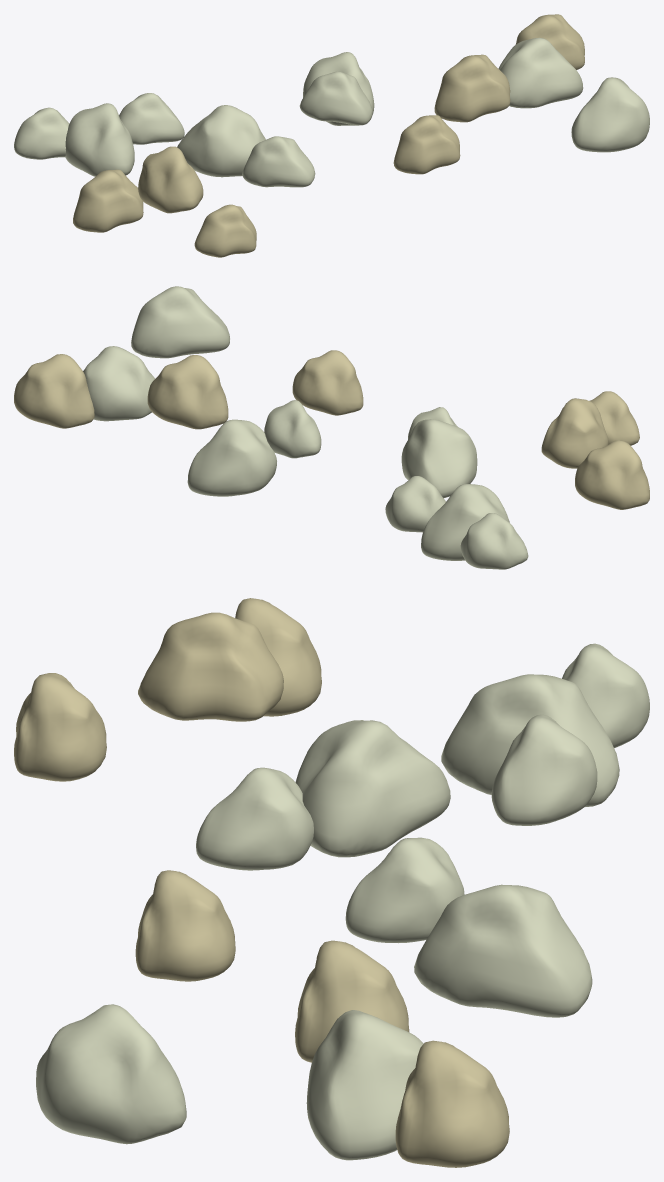
The model's file is smoothlakerock.fbx.
3 renders of one model, top to bottom at view 1: azimuth 30°, elevation 25°; view 2: azimuth 150°, elevation 25°; view 3: azimuth 270°, elevation 25°, orthographic. The views are drawn at different scales.
Parts seen in each view (by area): view 1: polySurface64; view 2: polySurface64; view 3: polySurface64.
Part boxes in pixels (bbox=[...]): polySurface64: bbox=[14, 14, 649, 257]; polySurface64: bbox=[14, 286, 649, 569]; polySurface64: bbox=[14, 598, 649, 1167].
Size of the model in its own units: 15.77 by 2.31 by 8.37.
